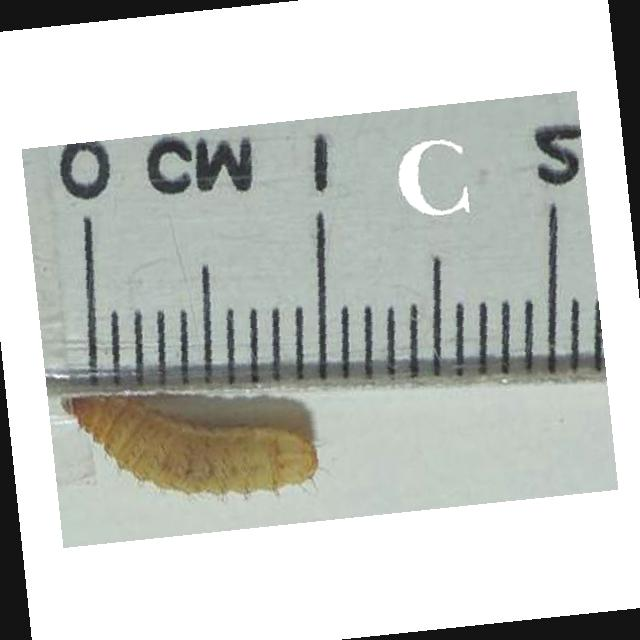Maggot: (57, 398, 319, 501)
